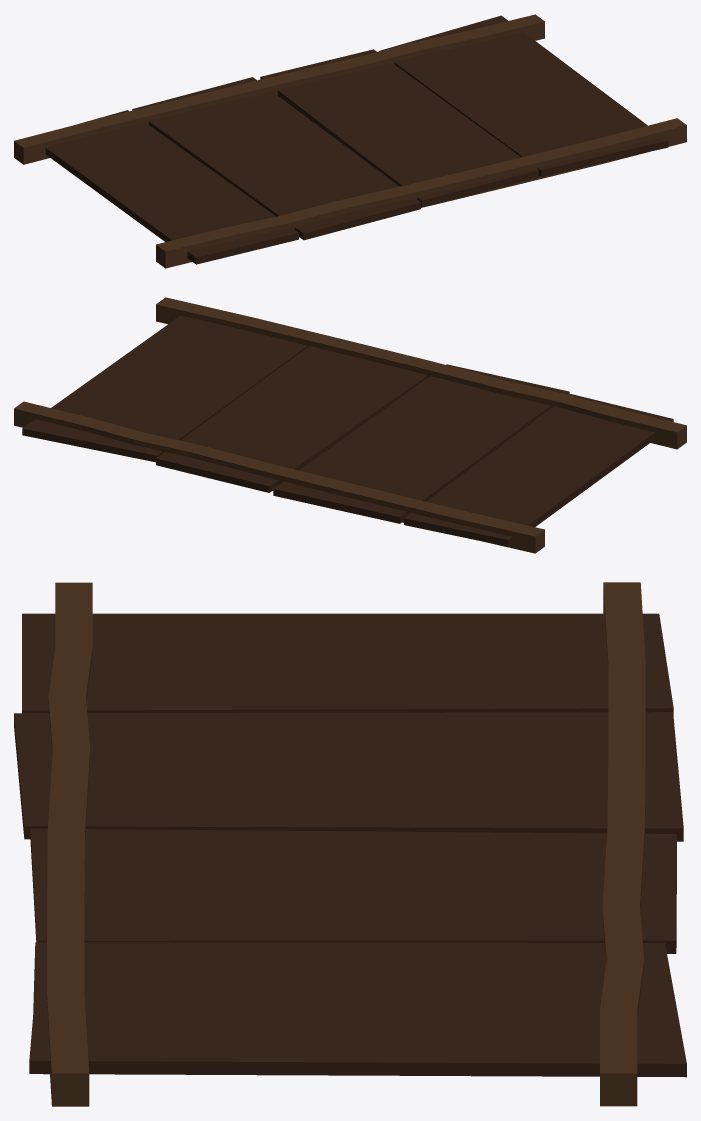
Rendered from Cave_Lair_Wooden_Timber_Bridge_Platform_01.fbx.
3 renders of one model, top to bottom at view 1: azimuth 30°, elevation 25°; view 2: azimuth 150°, elevation 25°; view 3: azimuth 270°, elevation 25°, orthographic. The views are drawn at different scales.
Parts seen in each view (by area): view 1: Cave_Lair_Wooden_Timber_Bridge_Platform_01; view 2: Cave_Lair_Wooden_Timber_Bridge_Platform_01; view 3: Cave_Lair_Wooden_Timber_Bridge_Platform_01.
Part boxes in pixels (box(x1,y1,x2,y2)): Cave_Lair_Wooden_Timber_Bridge_Platform_01: box(14, 14, 686, 268); Cave_Lair_Wooden_Timber_Bridge_Platform_01: box(14, 297, 686, 553); Cave_Lair_Wooden_Timber_Bridge_Platform_01: box(14, 582, 686, 1106).
Bounding box in the file's own units: 3.27 × 0.1019 × 1.89.
